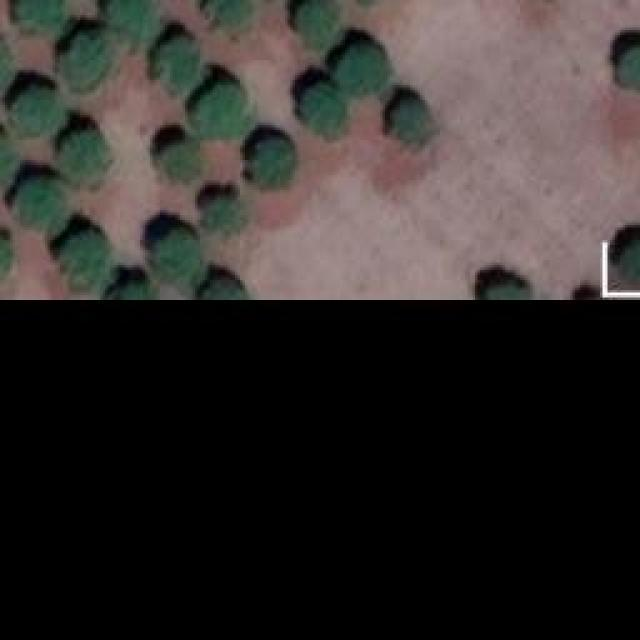Tree: (143, 217, 206, 275), (187, 88, 245, 141), (335, 43, 388, 96), (13, 85, 63, 140), (250, 135, 300, 188), (295, 80, 345, 133), (150, 35, 198, 88), (13, 177, 63, 225), (295, 0, 343, 50), (55, 233, 108, 278), (65, 35, 108, 83), (64, 133, 105, 183), (203, 188, 248, 231), (395, 100, 433, 145), (107, 0, 155, 35), (475, 270, 533, 298), (15, 0, 65, 32), (205, 0, 255, 30), (197, 275, 245, 298), (158, 143, 193, 173), (110, 278, 155, 301), (618, 235, 638, 280), (622, 45, 640, 90)
